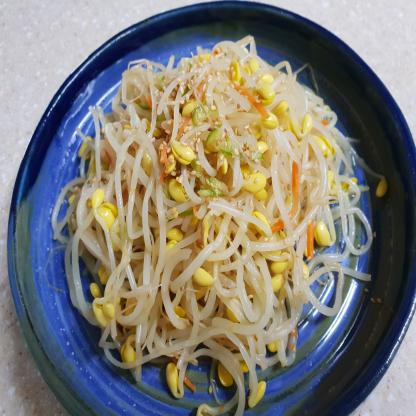bean sprouts: (114, 223, 308, 357)
